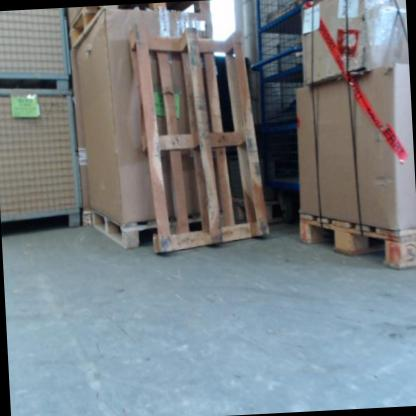pallet: (126, 19, 272, 258), (294, 205, 416, 277), (90, 198, 225, 255), (69, 0, 214, 53), (227, 191, 289, 233)
stillage: (0, 85, 79, 237), (0, 7, 70, 91)
